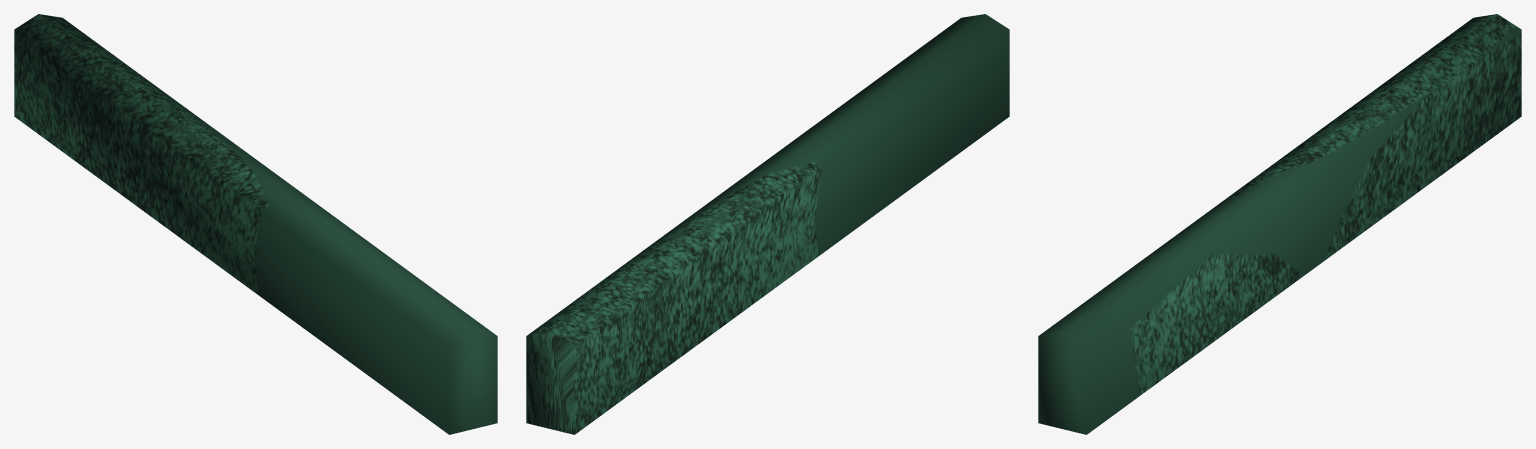
File: Ring3W1.fbx
The picture shows the model from 3 angles, left to right: view 1: azimuth 30°, elevation 25°; view 2: azimuth 150°, elevation 25°; view 3: azimuth 330°, elevation 25°; orthographic projection.
Visible parts, largest first — view 1: Ring3W1; view 2: Ring3W1; view 3: Ring3W1.
Part boxes in pixels (left/top/right/bottom): Ring3W1: left=14, top=14, right=497, bottom=434; Ring3W1: left=526, top=14, right=1009, bottom=434; Ring3W1: left=1038, top=14, right=1521, bottom=434.
Bounding box in the file's own units: 210 × 400 × 3264.
